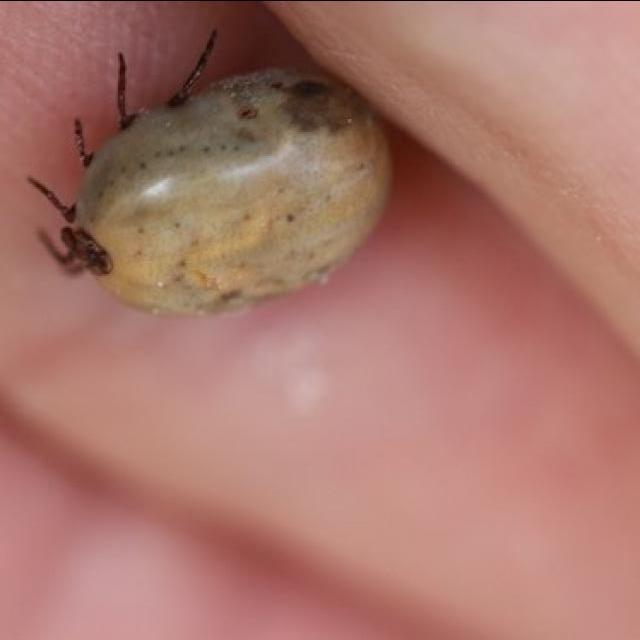Dermacentor Reticulatus-F-Fed: (27, 28, 397, 319)
